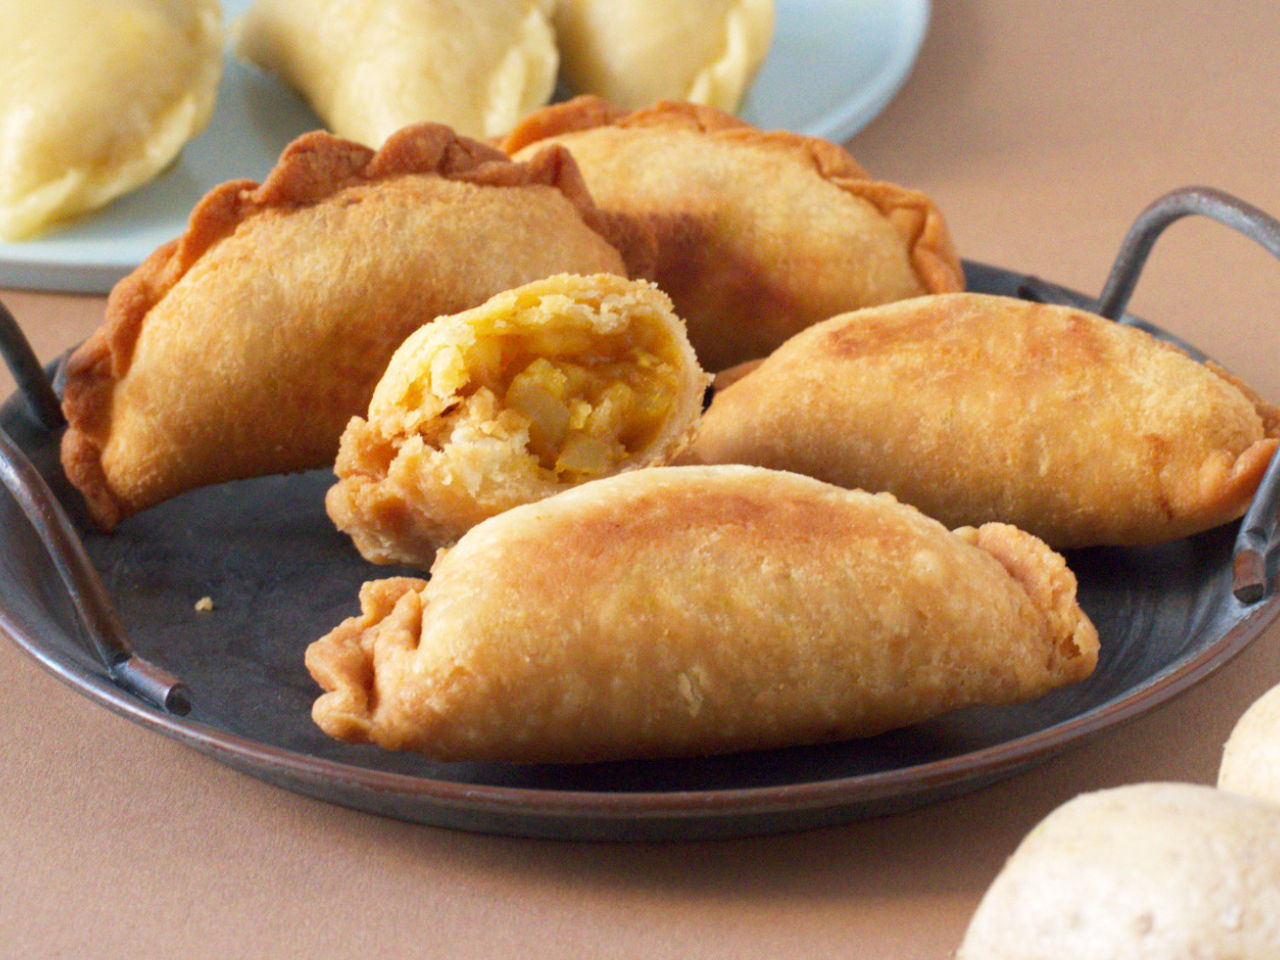Curry Puff: (312, 451, 1131, 775), (78, 126, 658, 539), (666, 305, 1267, 567), (501, 85, 1019, 330)
